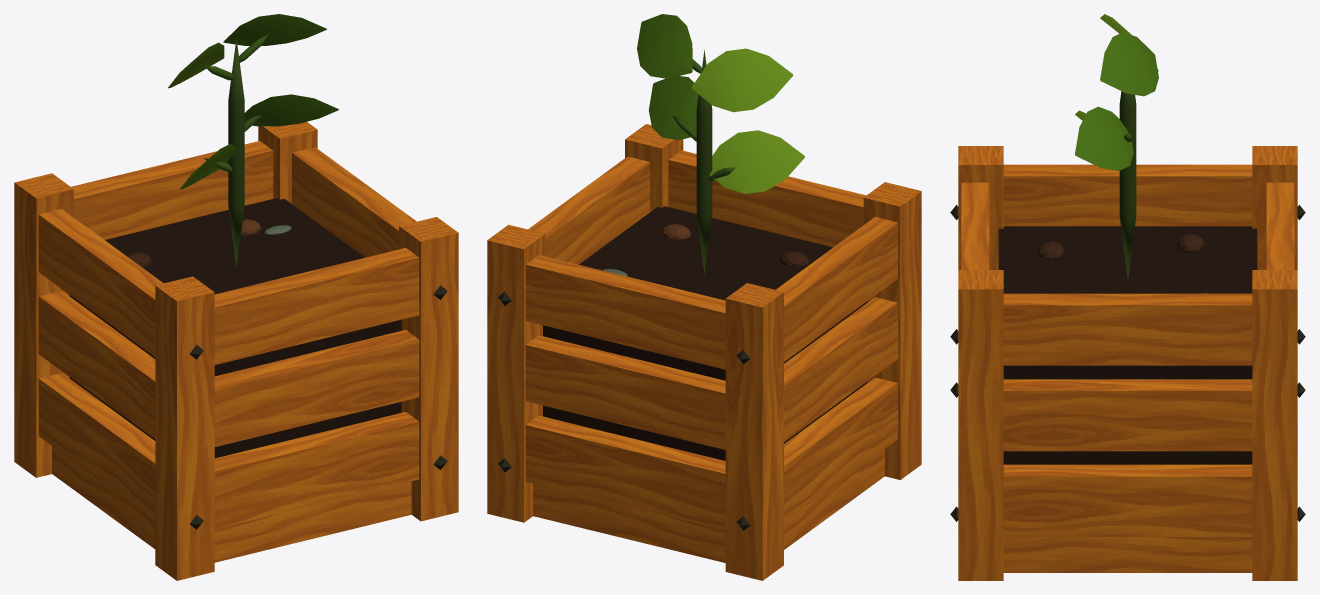
Rendered from nursery-ready.obj.
3 views of the same model, side by side, from view 1: azimuth 30°, elevation 25°; view 2: azimuth 150°, elevation 25°; view 3: azimuth 270°, elevation 25° (orthographic). The views are drawn at different scales.
Parts seen in each view (by area): view 1: nursery-ready; view 2: nursery-ready; view 3: nursery-ready.
Part boxes in pixels (left/top/right/bottom): nursery-ready: left=14, top=14, right=458, bottom=580; nursery-ready: left=487, top=14, right=921, bottom=580; nursery-ready: left=950, top=14, right=1305, bottom=580.
Size of the model in its own units: 0.485 by 0.7732 by 0.508.
2 materials, 2 textured.
